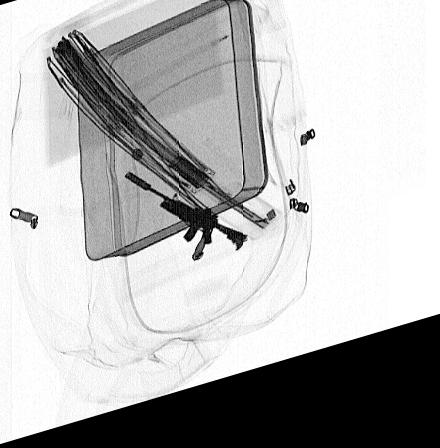Gun: (122, 176, 249, 265)
